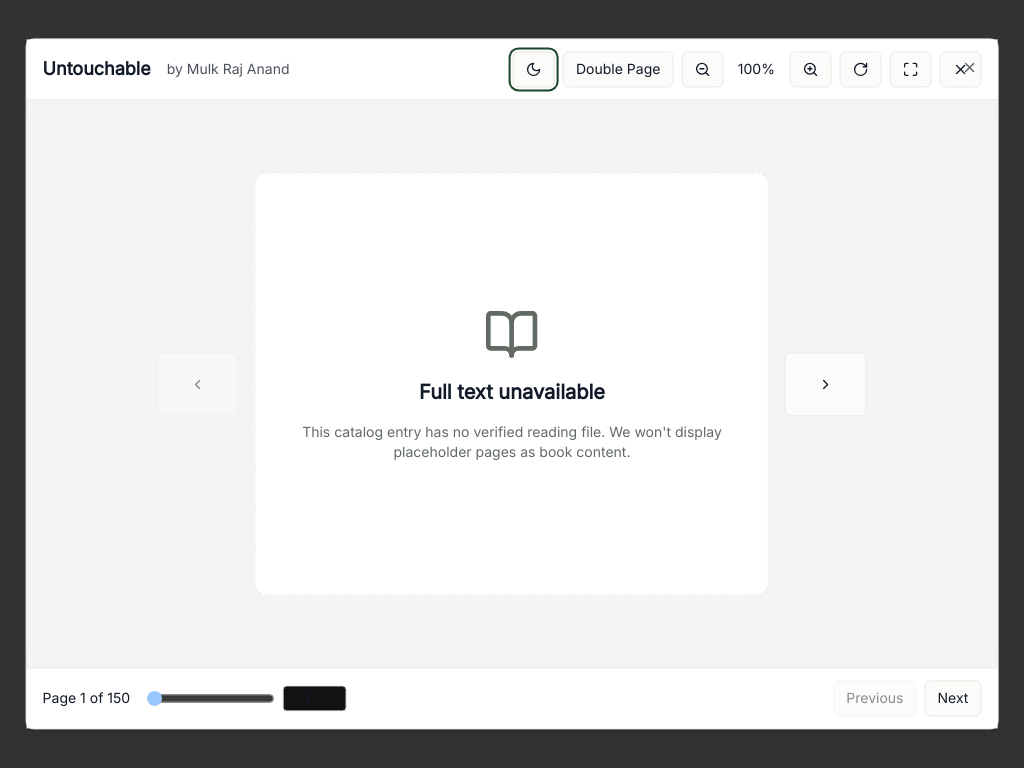
Test: Library BookReader Modal Dialog › renders non-PDF books with interactive page navigation, view modes, and dark mode
This screenshot has width=1024, height=768.
Later steps or results of the test are not shown.
Expected: the heading "Full text unavailable" is shown, x1=419 y1=378 x2=605 y2=406
Expected: the text "Page 1 of 150" is shown, x1=43 y1=689 x2=130 y2=709
Note: Toggle view mode between Double Page and Single Page
Click the button "Double Page" at {"x": 618, "y": 69}, box x1=563 y1=51 x2=673 y2=87
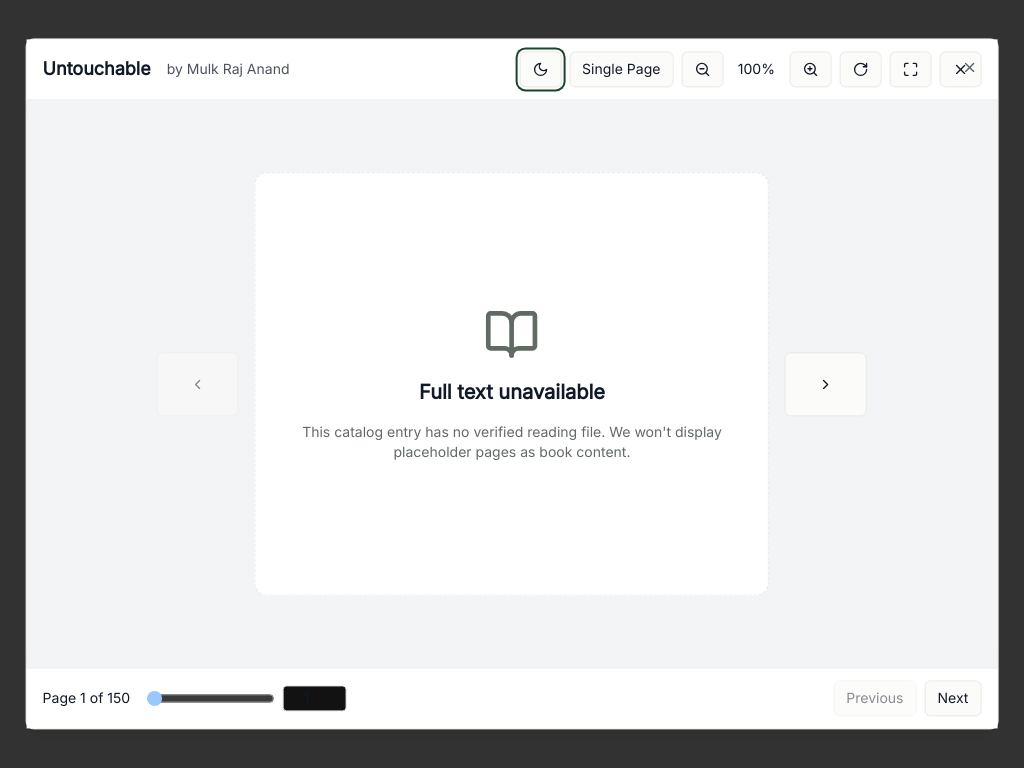
Expected: the text "100%" is shown, x1=738 y1=60 x2=775 y2=77
Expected: the button "Single Page" is shown, x1=569 y1=51 x2=673 y2=87
Note: Test zoom in / zoom out keyboard shortcuts
Press +
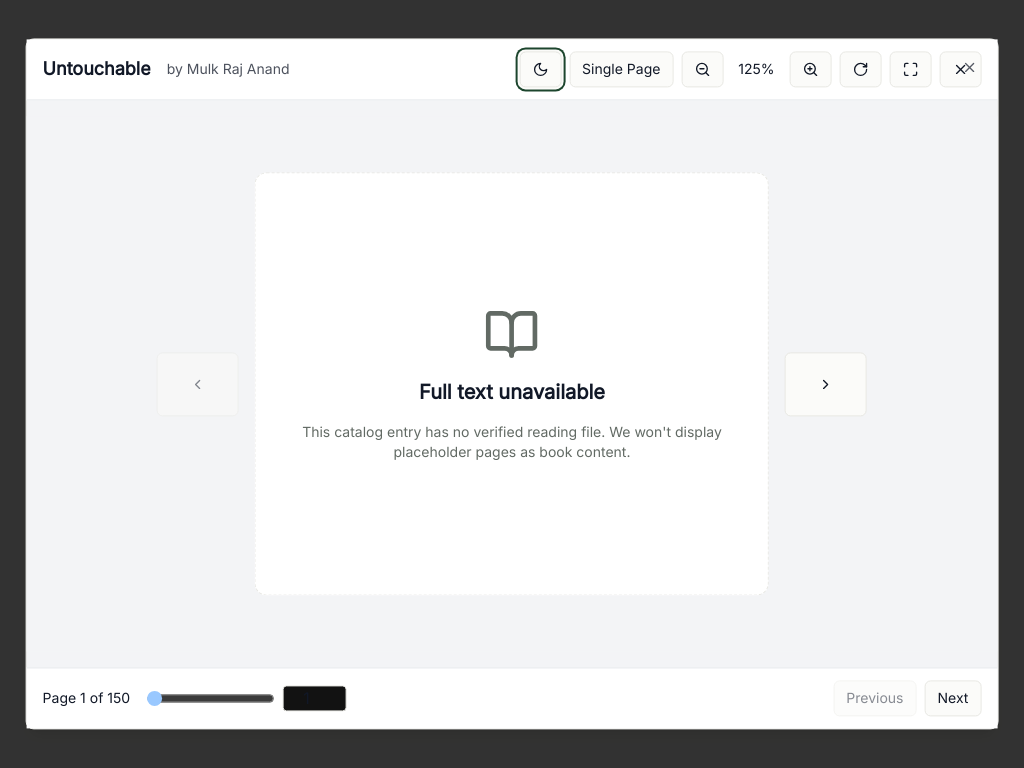
Expected: the text "125%" is shown, x1=738 y1=60 x2=774 y2=77
Press -
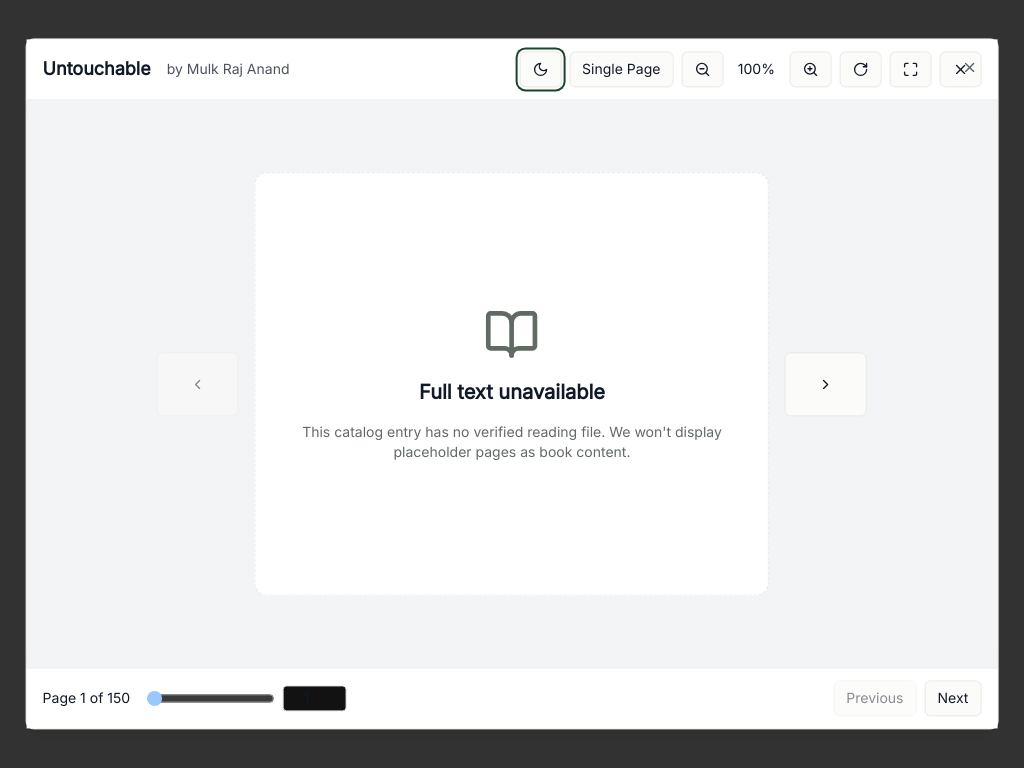
Expected: the text "100%" is shown, x1=738 y1=60 x2=775 y2=77
